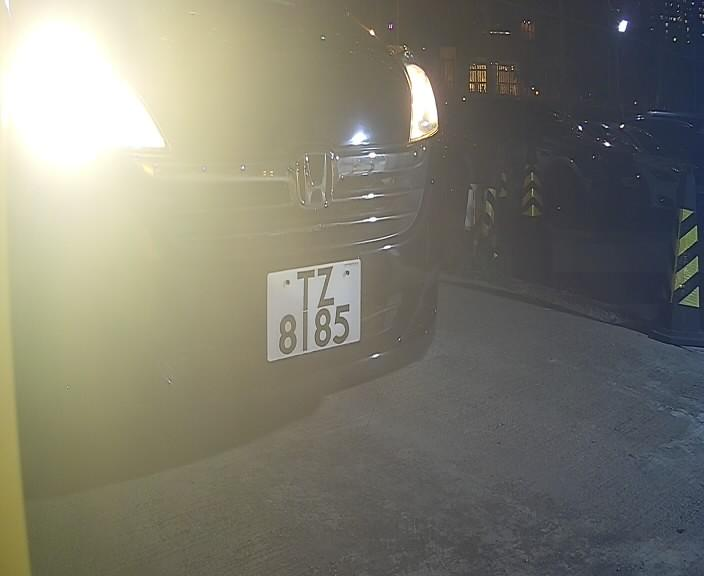License Plate: (255, 247, 371, 373)
